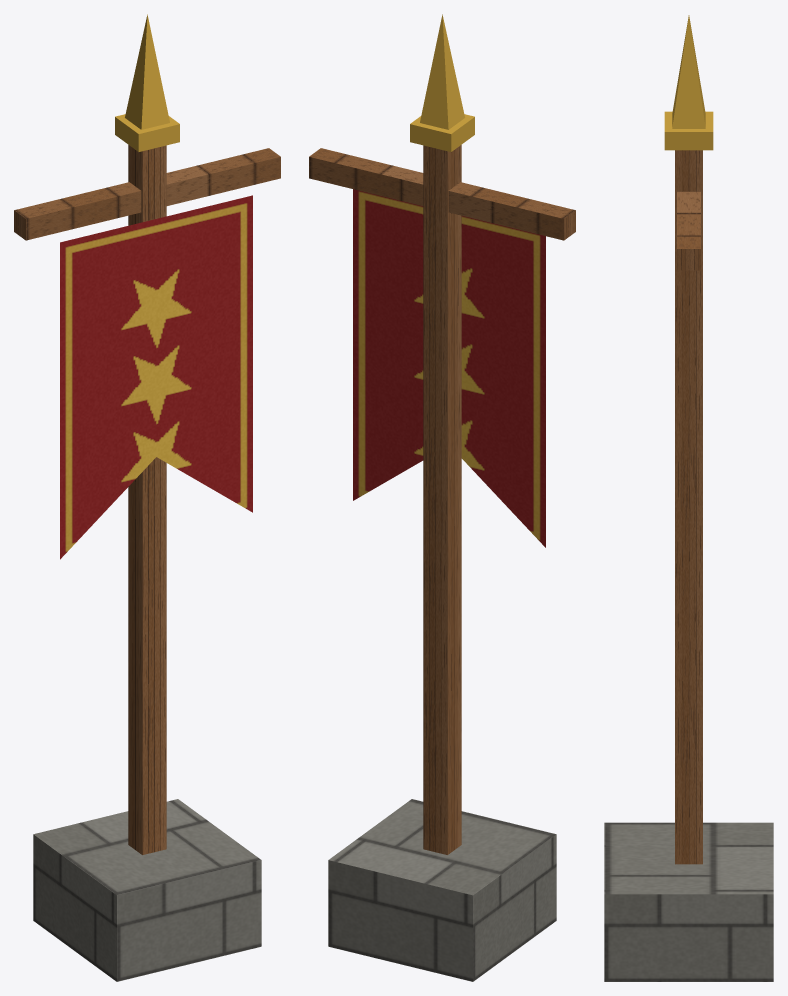
File: standard.glb
The picture shows the model from 3 angles, left to right: view 1: azimuth 30°, elevation 25°; view 2: azimuth 150°, elevation 25°; view 3: azimuth 270°, elevation 25°; orthographic projection.
Parts seen in each view (by area): view 1: model; view 2: model; view 3: model.
Boxes of the visible parts, x1,y1,x2,y2 form: model: (14,14,280,981); model: (309,14,575,981); model: (604,15,773,981).
Bounding box in the file's own units: 0.74 × 2.55 × 0.42.
4 materials, 3 textured.
